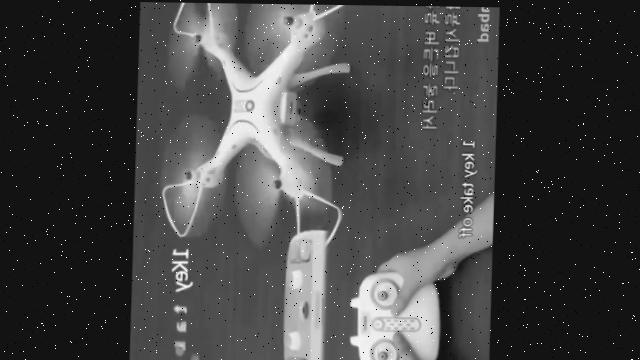drone: (158, 2, 366, 248)
